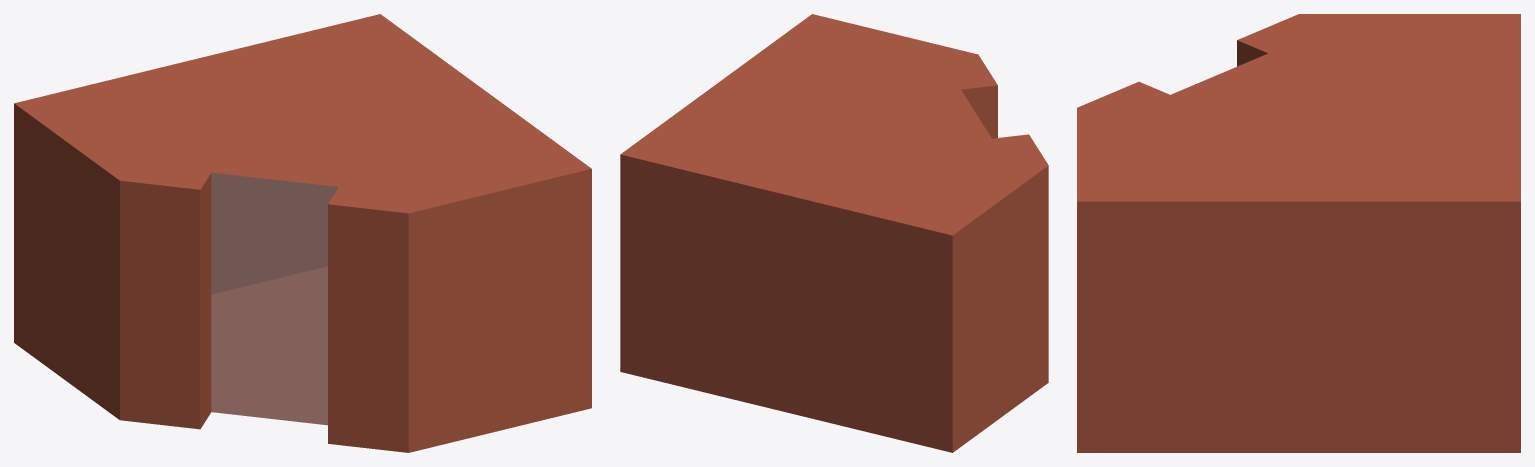
Rendered from modularBuildings_049.obj.
The picture shows the model from 3 angles, left to right: view 1: azimuth 30°, elevation 25°; view 2: azimuth 150°, elevation 25°; view 3: azimuth 270°, elevation 25°; orthographic projection. The views are drawn at different scales.
Parts seen in each view (by area): view 1: Mesh1 Group1 Model; view 2: Mesh1 Group1 Model; view 3: Mesh1 Group1 Model.
Boxes of the visible parts, x1,y1,x2,y2 form: Mesh1 Group1 Model: (14,14,591,452); Mesh1 Group1 Model: (620,14,1048,452); Mesh1 Group1 Model: (1077,14,1520,452).
Size of the model in its own units: 1 by 0.625 by 1.
